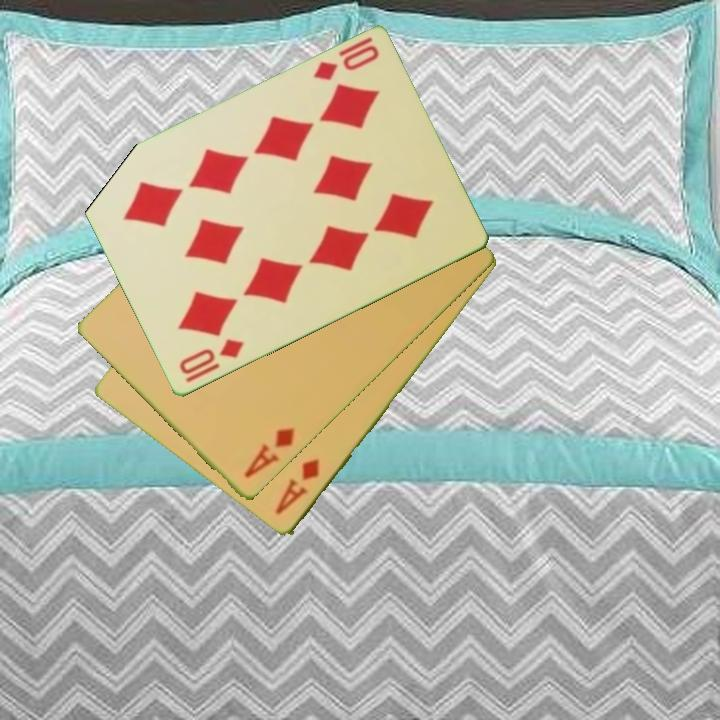10d: (309, 34, 382, 85), (175, 335, 246, 379)
Ad: (240, 424, 298, 482), (271, 455, 323, 518)
